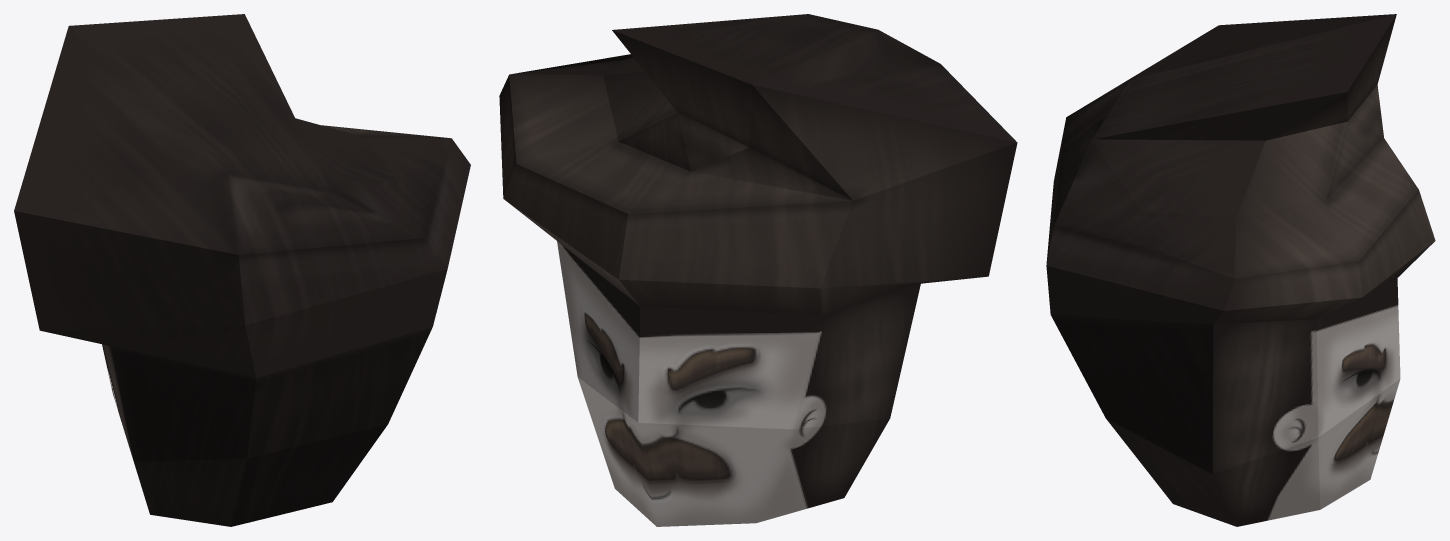
File: anchor-man_head.glb
The picture shows the model from 3 angles, left to right: view 1: azimuth 30°, elevation 25°; view 2: azimuth 150°, elevation 25°; view 3: azimuth 270°, elevation 25°; orthographic projection. The views are drawn at different scales.
Visible parts, largest first — view 1: anchorman; view 2: anchorman; view 3: anchorman.
Boxes of the visible parts, x1=… form: anchorman: x1=14, y1=14, x2=470, y2=526; anchorman: x1=499, y1=14, x2=1017, y2=526; anchorman: x1=1046, y1=14, x2=1435, y2=526.
Size of the model in its own units: 2.86 by 2.54 by 2.14.
1 material, 1 textured.
